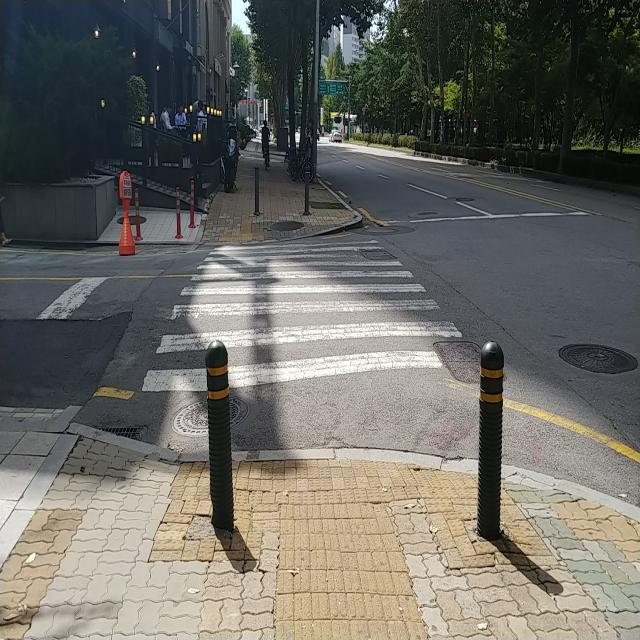횡단보도: (140, 235, 463, 393)
